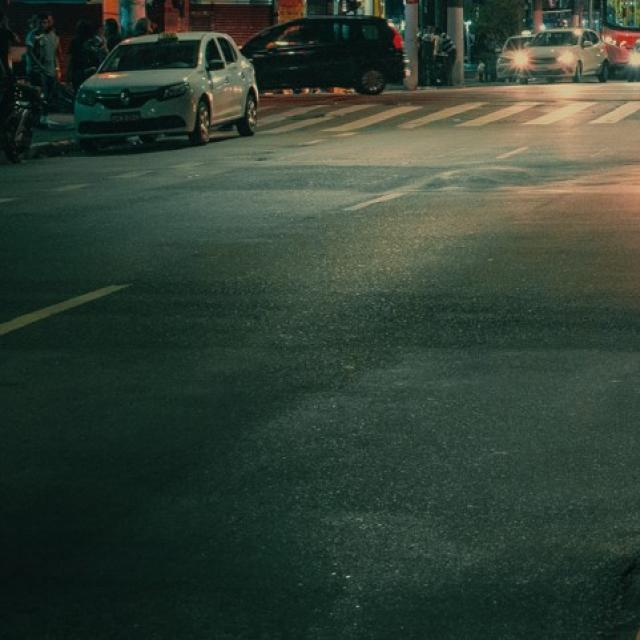bus: (588, 0, 640, 68)
car: (74, 30, 258, 143), (241, 15, 408, 97), (517, 28, 609, 84), (628, 31, 640, 82)
